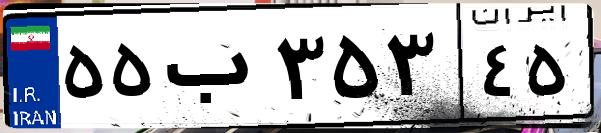3: (270, 28, 330, 110), (385, 28, 445, 110)
4: (475, 38, 525, 113)
5: (330, 28, 385, 110), (57, 26, 110, 100), (525, 38, 570, 115), (110, 28, 158, 98)
ب: (158, 20, 270, 120)
